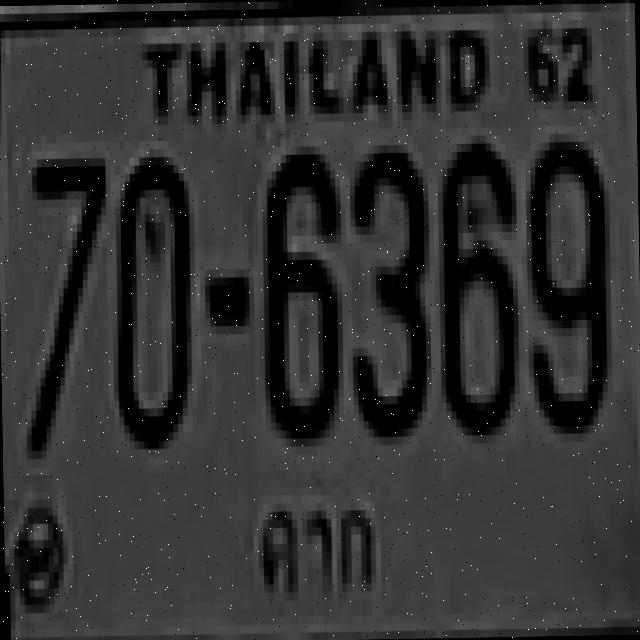0: (109, 148, 188, 441)
3: (344, 140, 427, 433)
6: (256, 146, 339, 438), (436, 134, 516, 428)
7: (21, 150, 104, 450)
9: (524, 132, 608, 426)
Tak: (249, 474, 381, 598)
